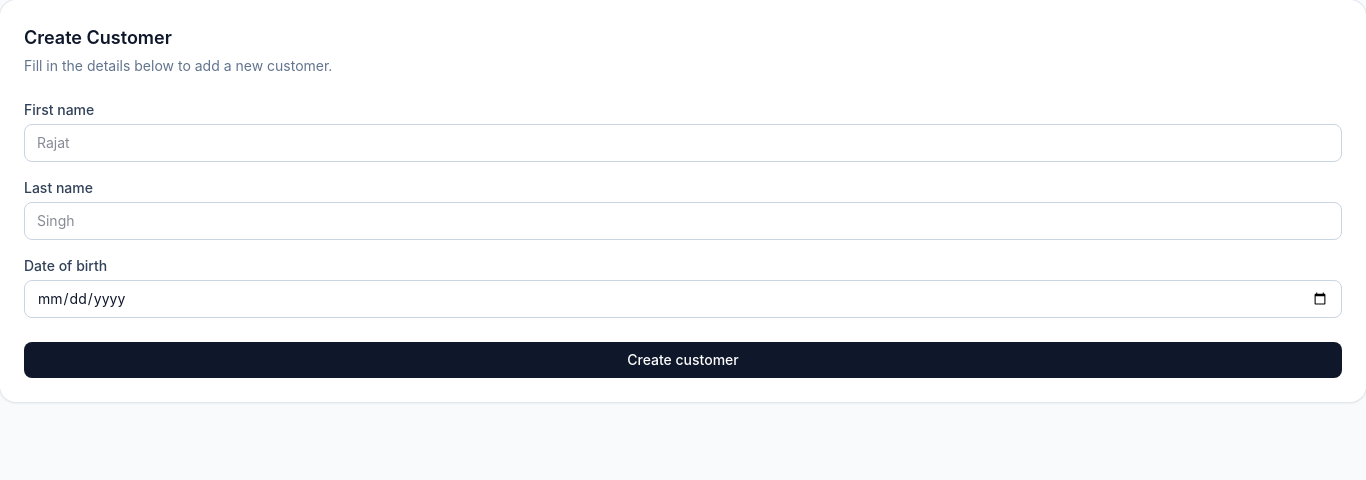
Scenario: CustomerForm › displays validation error for empty first name
Click the button "Create customer".
click(683, 360)  # box [24, 342, 1342, 378]
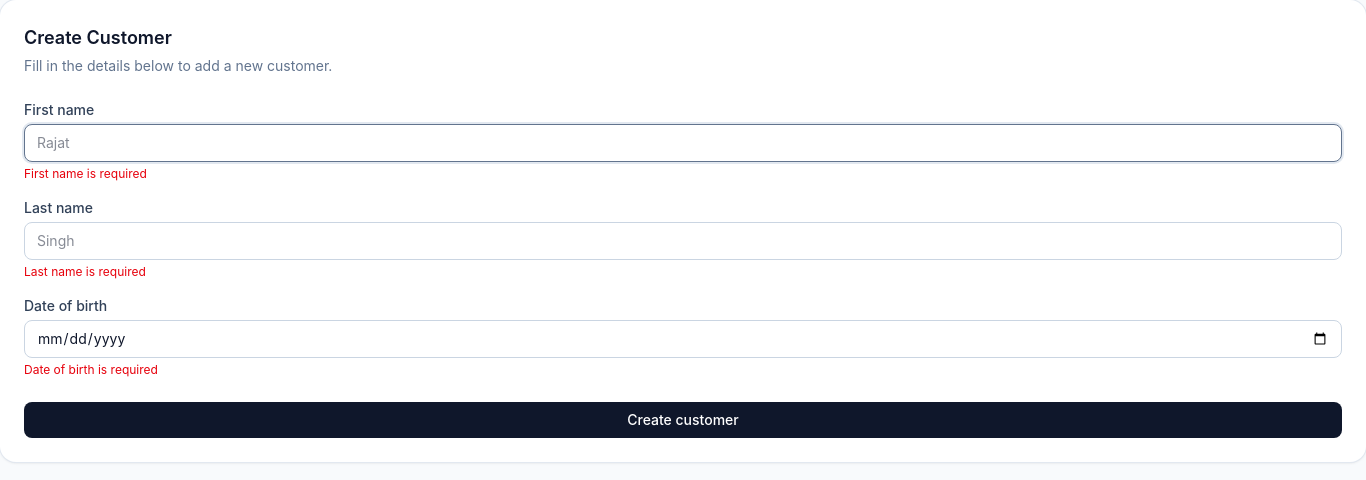
Check: the text "First name is required" is shown, box [24, 166, 147, 181]
